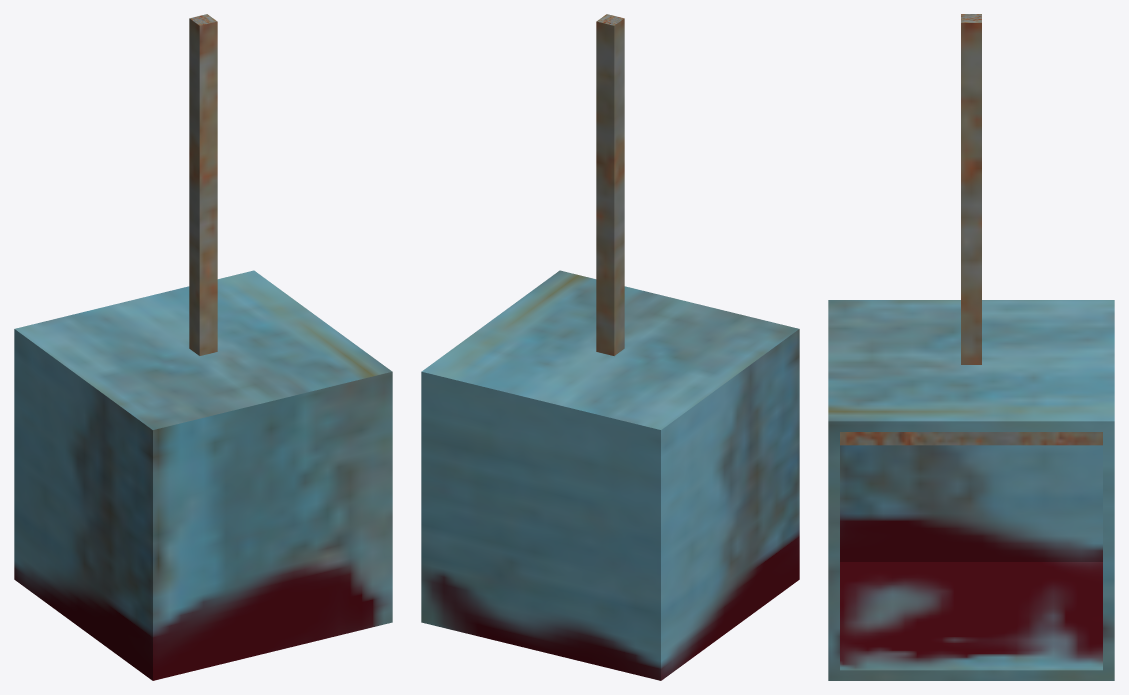
3 views of the same model, side by side, from view 1: azimuth 30°, elevation 25°; view 2: azimuth 150°, elevation 25°; view 3: azimuth 270°, elevation 25° (orthographic). The views are drawn at different scales.
Visible parts, largest first — view 1: Cube, Cube.001; view 2: Cube, Cube.001; view 3: Cube, Cube.001.
Part boxes in pixels (x1,y1,x2,y2): Cube: (14, 270, 392, 680); Cube.001: (189, 14, 217, 355); Cube: (421, 270, 799, 680); Cube.001: (596, 14, 624, 355); Cube: (828, 300, 1114, 680); Cube.001: (840, 14, 1102, 445).
Size of the model in its own units: 4.19 by 9.71 by 4.19.
Materials: 2 (2 with a texture image).
